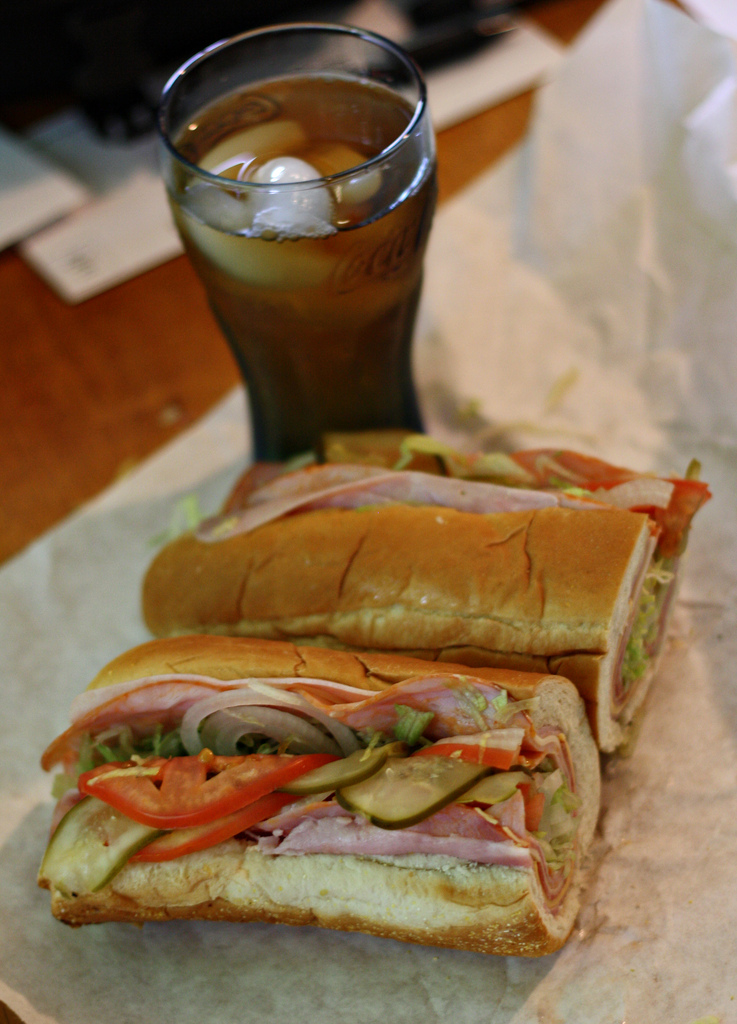slice of bread: (170, 521, 652, 641), (57, 841, 570, 950), (87, 643, 607, 728)
